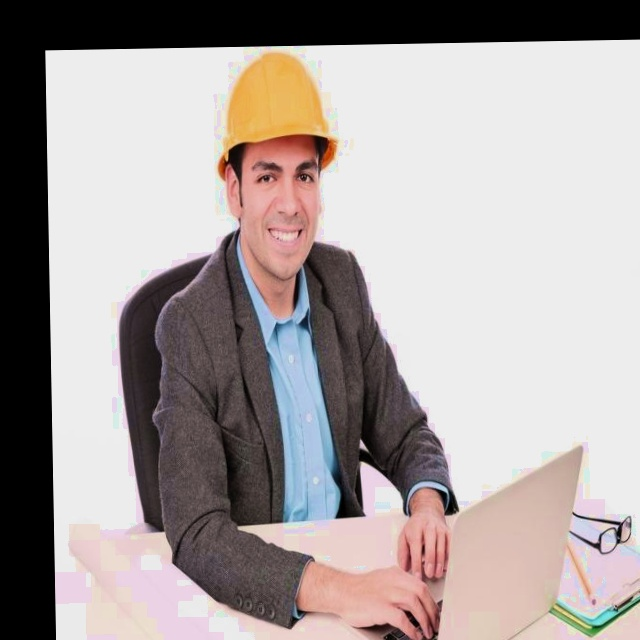Con_Casco: (216, 54, 338, 253)
Sin_Chaleco: (162, 247, 375, 519)
